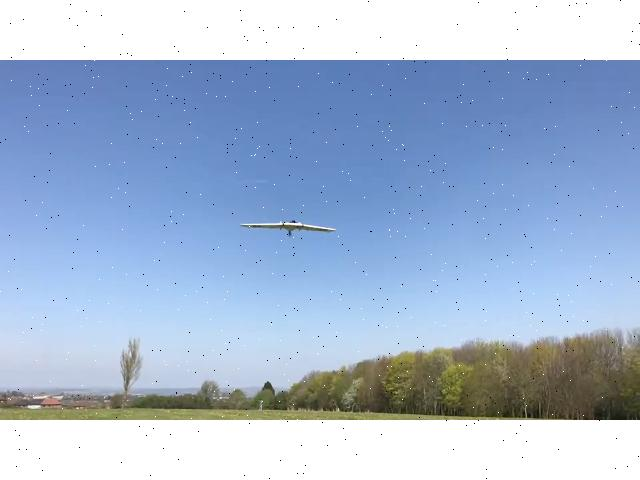Anti-Drone: (241, 217, 337, 237)
